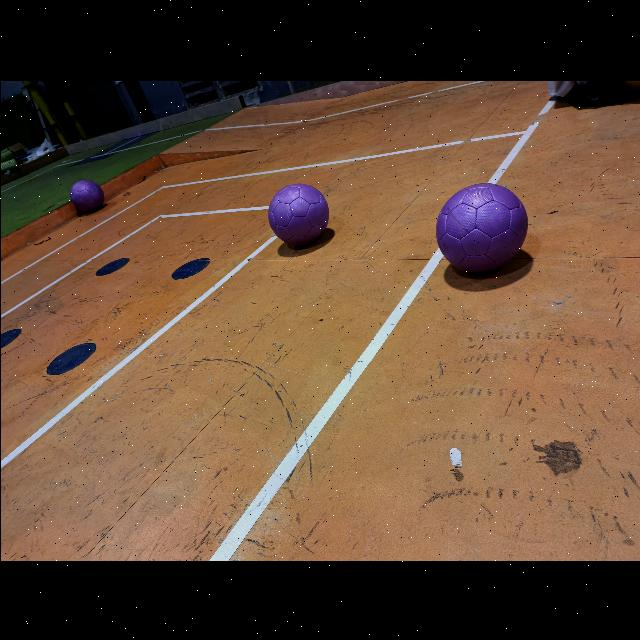P: (436, 182, 526, 272), (268, 183, 328, 245), (69, 178, 103, 210)
